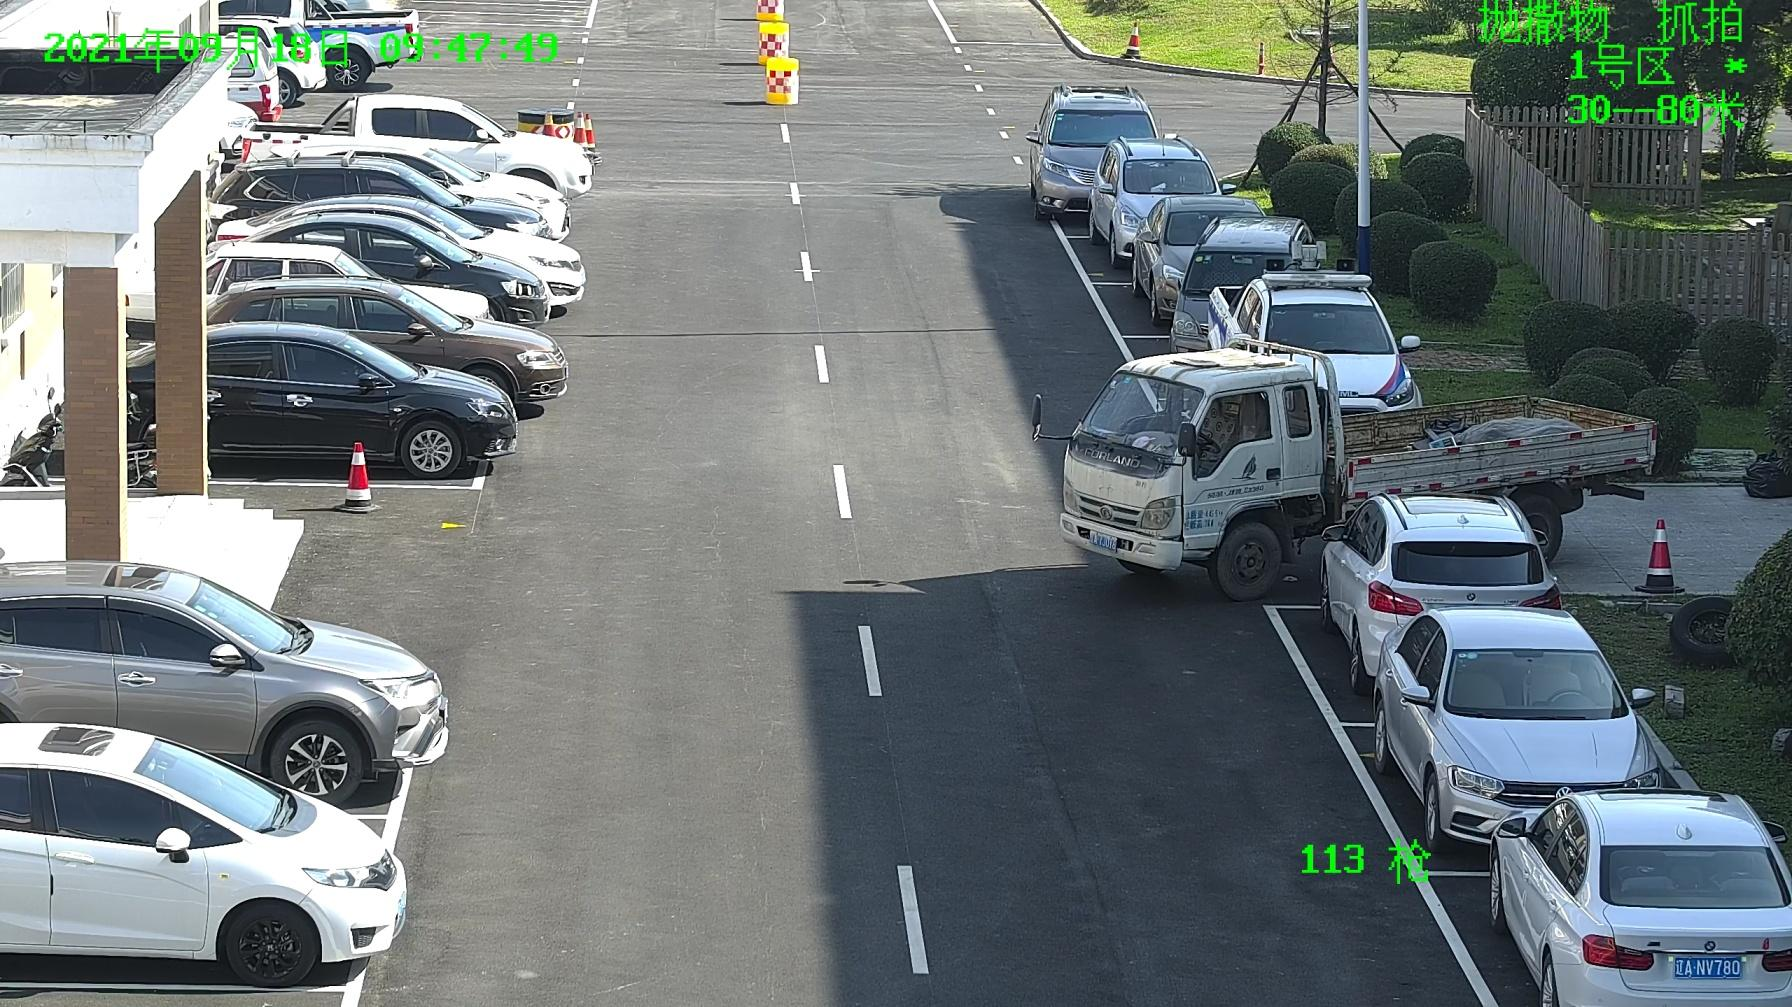cone_barrel: (766, 59, 798, 105), (759, 22, 786, 60), (756, 0, 783, 21)
